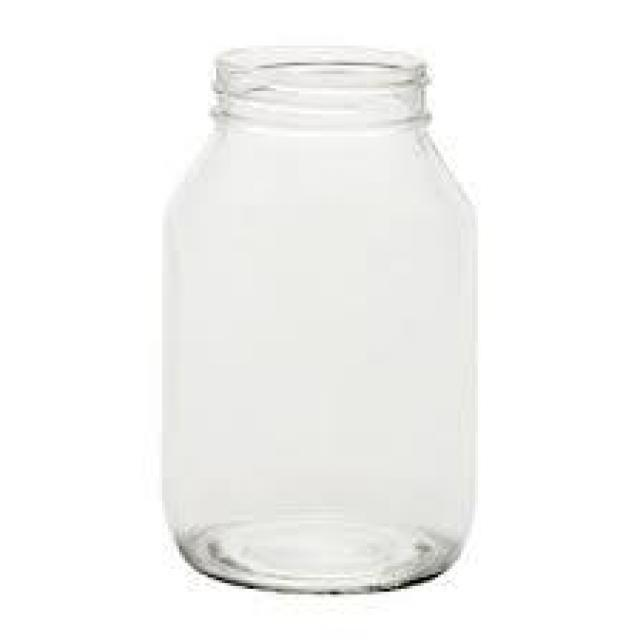glass: (150, 34, 487, 600)
